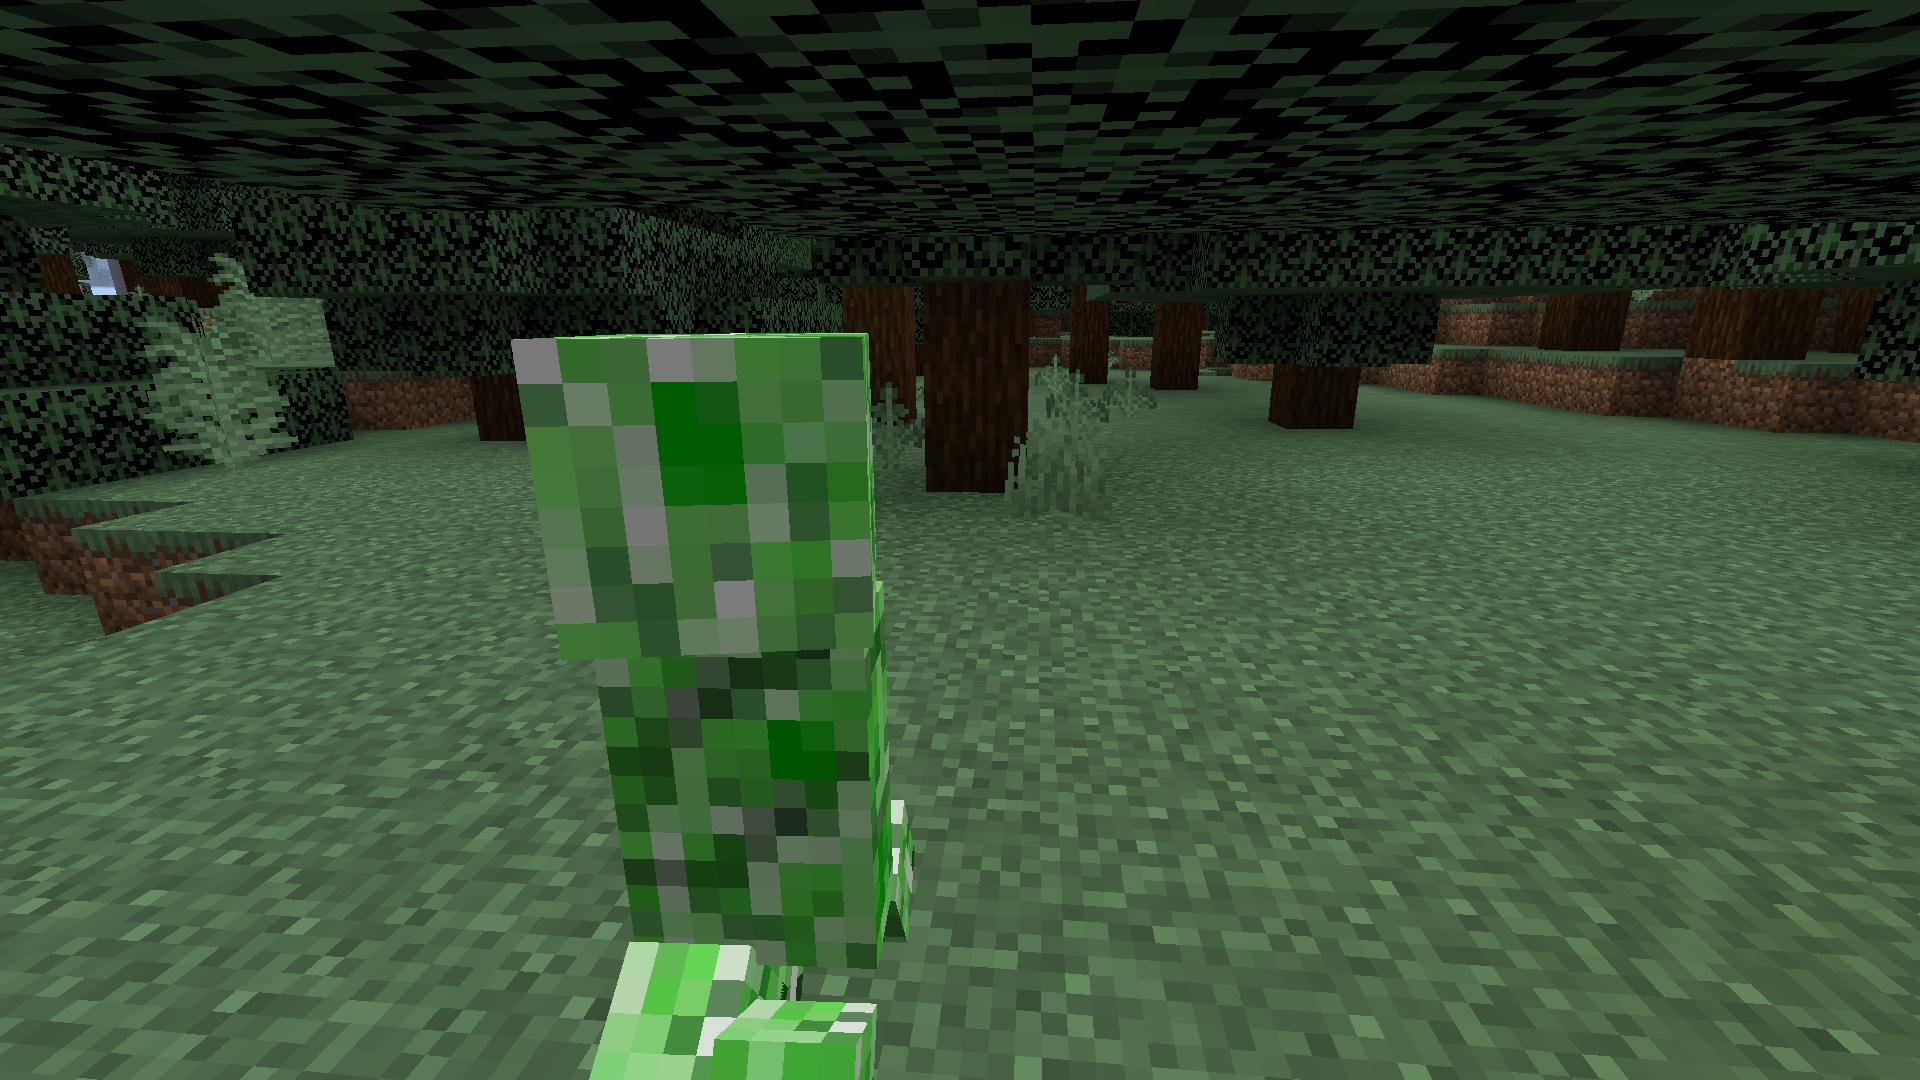creeper: (479, 314, 931, 1080)
